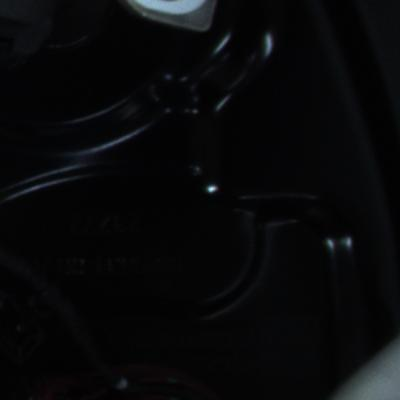nut_b: (129, 123, 222, 211)
